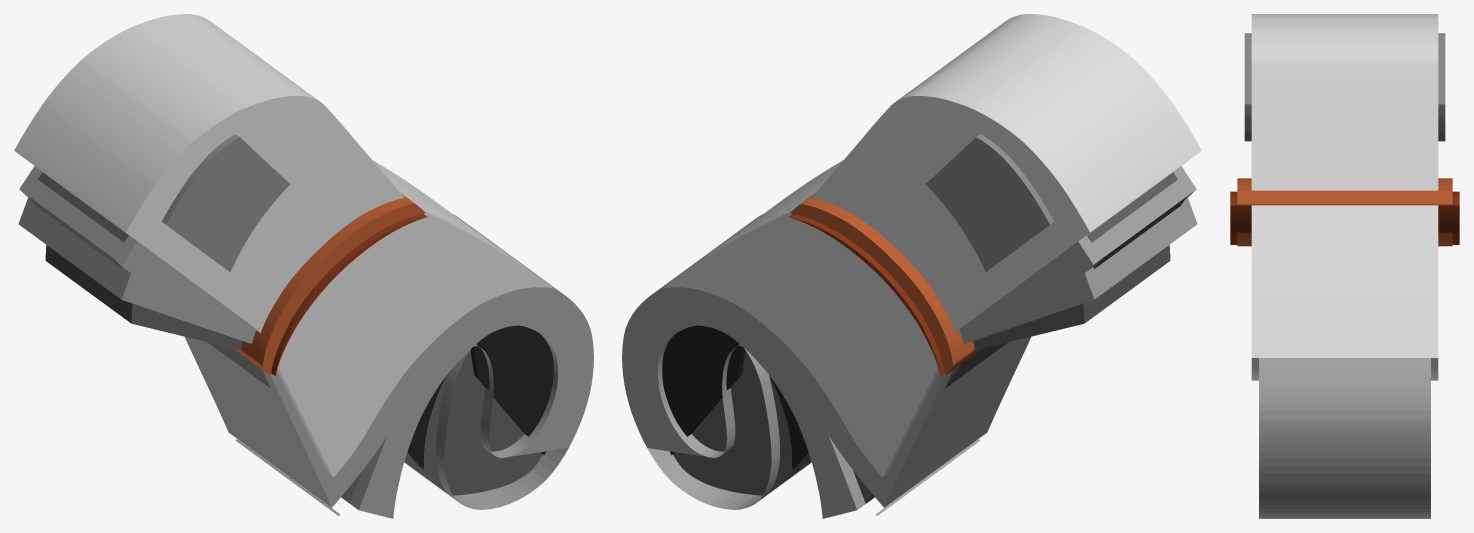
3 renders of one model, left to right at view 1: azimuth 30°, elevation 25°; view 2: azimuth 150°, elevation 25°; view 3: azimuth 270°, elevation 25°, orthographic. The views are drawn at different scales.
Visible parts, largest first — view 1: U+1F5DE_layer03_obj00, U+1F5DE_layer02_obj01, U+1F5DE_layer04_obj00, U+1F5DE_layer00_obj00, U+1F5DE_layer01_obj00, U+1F5DE_layer05_obj00, U+1F5DE_layer00_obj02, U+1F5DE_layer06_obj00, U+1F5DE_layer00_obj04, U+1F5DE_layer01_obj01; view 2: U+1F5DE_layer03_obj00, U+1F5DE_layer02_obj01, U+1F5DE_layer04_obj00, U+1F5DE_layer00_obj00, U+1F5DE_layer01_obj00, U+1F5DE_layer05_obj00, U+1F5DE_layer00_obj02, U+1F5DE_layer06_obj00, U+1F5DE_layer00_obj04, U+1F5DE_layer01_obj01; view 3: U+1F5DE_layer03_obj00, U+1F5DE_layer02_obj01, U+1F5DE_layer05_obj00, U+1F5DE_layer04_obj00, U+1F5DE_layer06_obj00.
Part boxes in pixels (<box>): U+1F5DE_layer03_obj00: <box>14,14,553,477</box>; U+1F5DE_layer02_obj01: <box>18,166,593,518</box>; U+1F5DE_layer04_obj00: <box>162,134,290,271</box>; U+1F5DE_layer00_obj00: <box>404,350,542,495</box>; U+1F5DE_layer01_obj00: <box>470,325,553,455</box>; U+1F5DE_layer05_obj00: <box>233,193,424,374</box>; U+1F5DE_layer00_obj02: <box>45,245,362,503</box>; U+1F5DE_layer06_obj00: <box>271,214,427,375</box>; U+1F5DE_layer00_obj04: <box>38,172,128,242</box>; U+1F5DE_layer01_obj01: <box>407,375,446,468</box>; U+1F5DE_layer03_obj00: <box>662,14,1201,477</box>; U+1F5DE_layer02_obj01: <box>622,166,1197,518</box>; U+1F5DE_layer04_obj00: <box>925,134,1053,271</box>; U+1F5DE_layer00_obj00: <box>673,350,811,495</box>; U+1F5DE_layer01_obj00: <box>662,325,745,455</box>; U+1F5DE_layer05_obj00: <box>791,193,982,374</box>; U+1F5DE_layer00_obj02: <box>853,245,1170,503</box>; U+1F5DE_layer06_obj00: <box>788,214,944,375</box>; U+1F5DE_layer00_obj04: <box>1087,172,1177,242</box>; U+1F5DE_layer01_obj01: <box>769,375,808,468</box>; U+1F5DE_layer03_obj00: <box>1251,14,1438,380</box>; U+1F5DE_layer02_obj01: <box>1259,358,1430,518</box>; U+1F5DE_layer05_obj00: <box>1237,178,1452,246</box>; U+1F5DE_layer04_obj00: <box>1244,33,1445,141</box>; U+1F5DE_layer06_obj00: <box>1230,191,1459,244</box>.
Size of the model in its own units: 0.3171 by 0.3001 by 0.16.
